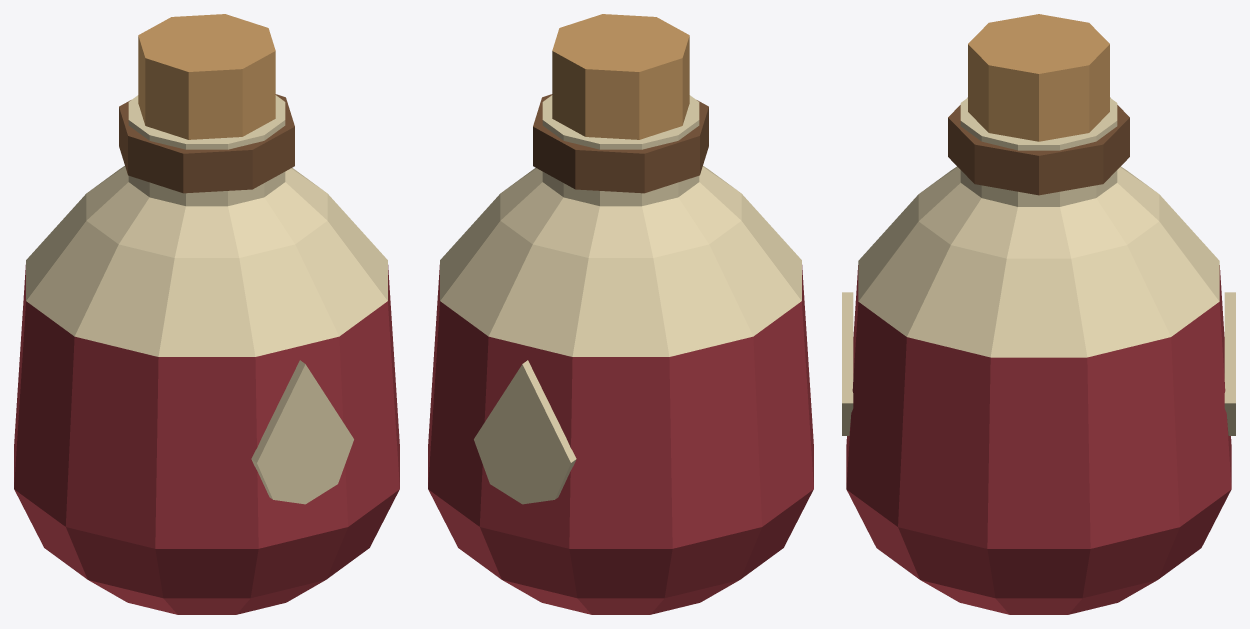
Rendered from potion.fbx.
The picture shows the model from 3 angles, left to right: view 1: azimuth 30°, elevation 25°; view 2: azimuth 150°, elevation 25°; view 3: azimuth 270°, elevation 25°; orthographic projection.
Visible parts, largest first — view 1: 00_bottle_A73C46, 01_bottle_E2D4AE, 03_cork, 05_droplet_back, 02_neck_binding; view 2: 00_bottle_A73C46, 01_bottle_E2D4AE, 03_cork, 04_droplet_front, 02_neck_binding; view 3: 00_bottle_A73C46, 01_bottle_E2D4AE, 03_cork, 02_neck_binding, 04_droplet_front, 05_droplet_back.
Part boxes in pixels (<box>): 00_bottle_A73C46: <box>14,265,399,614</box>; 01_bottle_E2D4AE: <box>26,95,387,356</box>; 03_cork: <box>138,14,275,139</box>; 05_droplet_back: <box>251,360,353,504</box>; 02_neck_binding: <box>119,94,294,193</box>; 00_bottle_A73C46: <box>428,265,813,614</box>; 01_bottle_E2D4AE: <box>440,95,801,356</box>; 03_cork: <box>552,14,689,139</box>; 04_droplet_front: <box>474,360,576,504</box>; 02_neck_binding: <box>533,94,708,193</box>; 00_bottle_A73C46: <box>846,265,1231,614</box>; 01_bottle_E2D4AE: <box>858,98,1219,357</box>; 03_cork: <box>968,14,1109,141</box>; 02_neck_binding: <box>948,97,1129,195</box>; 04_droplet_front: <box>1224,292,1235,435</box>; 05_droplet_back: <box>842,292,853,435</box>.
Bounding box in the file's own units: 0.3091 × 0.465 × 0.316.
